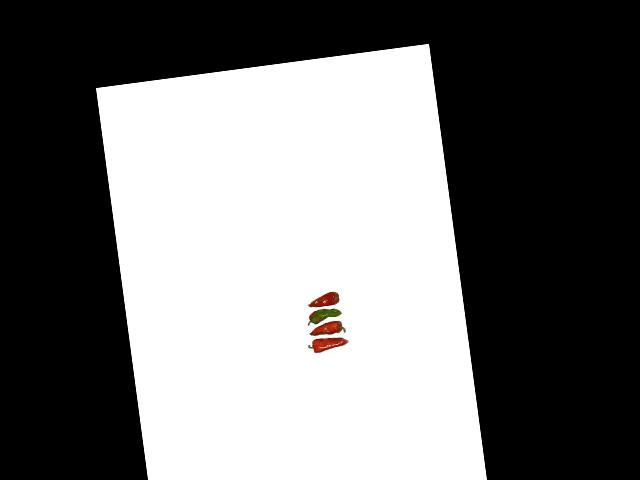bell_pepper: (303, 287, 341, 309)
